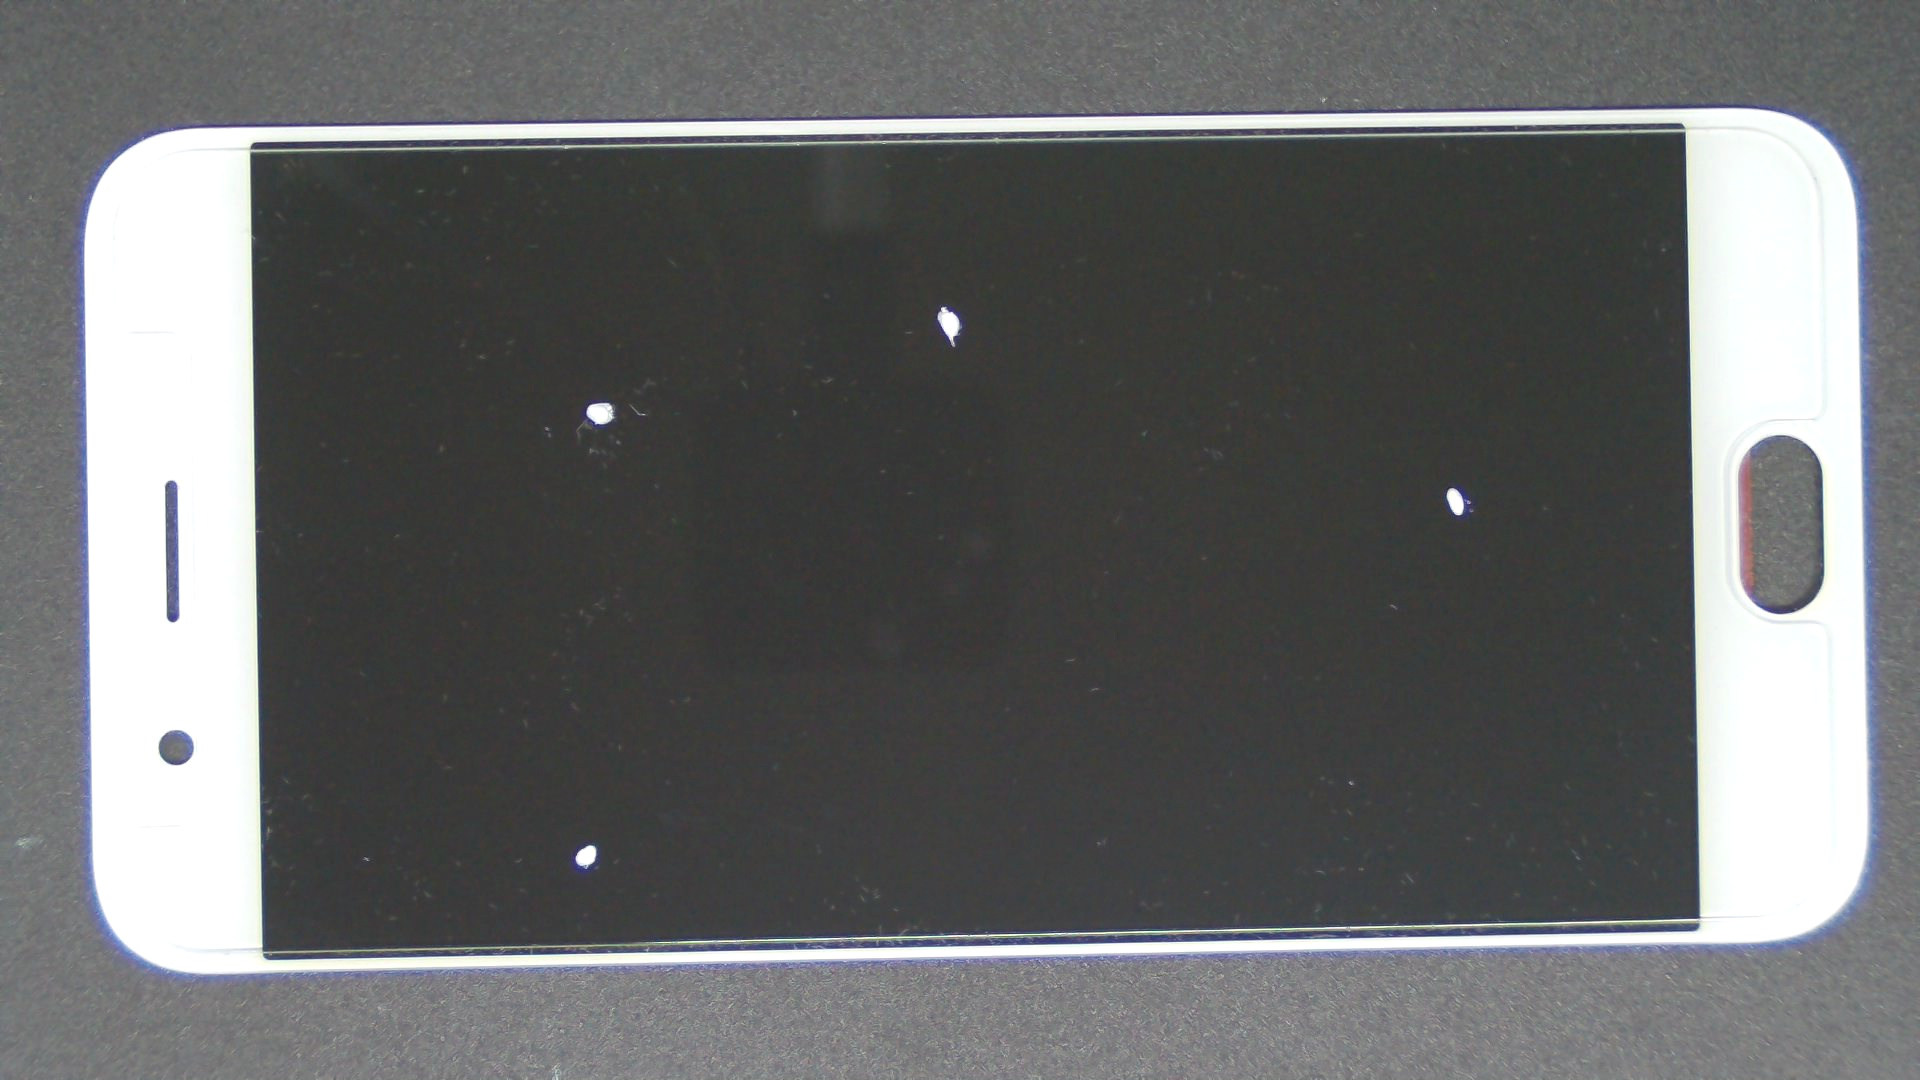oil: (727, 243, 1920, 729), (295, 421, 884, 1080), (472, 152, 1415, 458), (298, 200, 891, 603)
